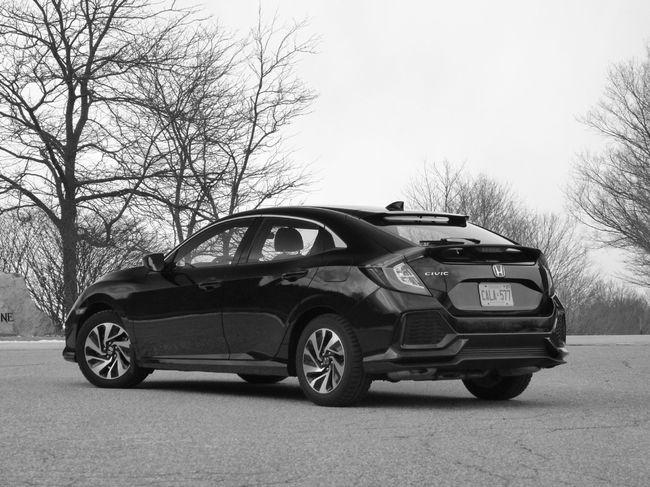Car boot: (384, 210, 560, 340)
Fender - -F-L-: (84, 264, 145, 365)
Fender - -R-L-: (286, 248, 382, 369)
Front bumper: (59, 300, 86, 363)
Passenger-s door - -F-L-: (131, 210, 244, 365)
Passenger-s door - -R-L-: (221, 209, 324, 364)
Rear bumper: (353, 291, 575, 380)
Rear light - -L-: (353, 242, 437, 299)
Side bumper - -L-: (129, 343, 300, 379)
Side mirror - -L-: (136, 248, 172, 277)
